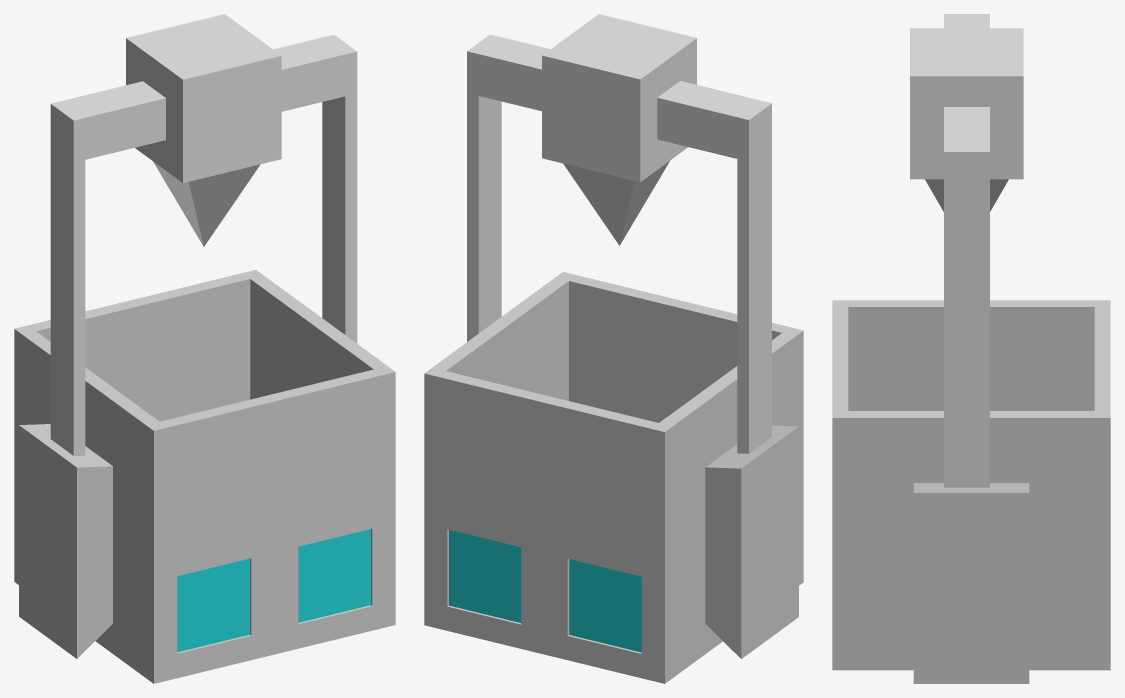
Rendered from Miner.glb.
3 views of the same model, side by side, from view 1: azimuth 30°, elevation 25°; view 2: azimuth 150°, elevation 25°; view 3: azimuth 270°, elevation 25° (orthographic).
Visible parts, largest first — view 1: MinerBase, Cube; view 2: MinerBase, Cube; view 3: MinerBase, Cube.
Part boxes in pixels (box(x1,y1,x2,y2)): MinerBase: box(14, 270, 395, 683); Cube: box(50, 14, 357, 455); MinerBase: box(424, 272, 803, 683); Cube: box(467, 14, 771, 453); MinerBase: box(832, 300, 1110, 683); Cube: box(910, 14, 1023, 487).
Size of the model in its own units: 6.36 by 10.81 by 4.9.
